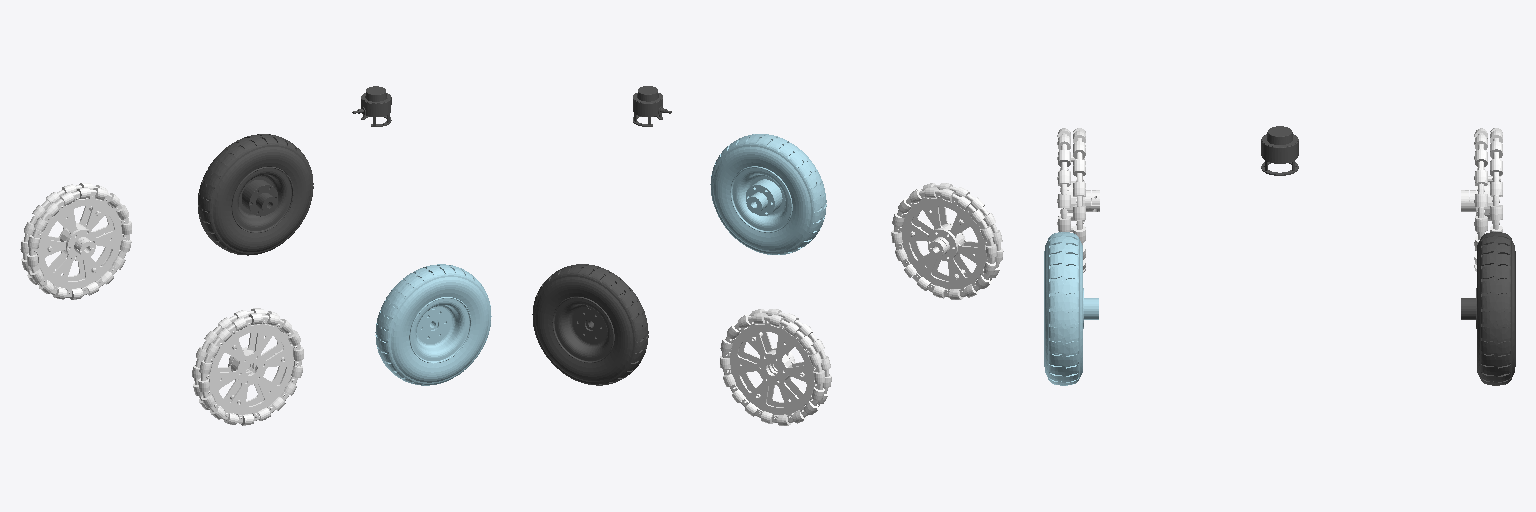
robot.urdf — four_wheel_diff_bs_robot:
<?xml version="1.0" encoding="utf-8"?>
<!-- This URDF was automatically created by SolidWorks to URDF Exporter! Originally created by [author] ([email redacted]) 
     Commit Version: 1.6.0-4-g7f85cfe  Build Version: 1.6.7995.38578
     For more information, please see http://wiki.ros.org/sw_urdf_exporter -->
<robot
  name="four_wheel_diff_bs_robot">
  <link
    name="base_link">
    <inertial>
      <origin
        xyz="0.0462629834005749 -0.00405781340954342 0.0282831399530564"
        rpy="0 0 0" />
      <mass
        value="4.71064836355498" />
      <inertia
        ixx="0.0538791577821187"
        ixy="6.45705427166123E-05"
        ixz="-1.84301924068733E-05"
        iyy="0.0466094447407305"
        iyz="-2.87984082042781E-06"
        izz="0.0970512808011448" />
    </inertial>
    <visual>
      <origin
        xyz="0 0 0"
        rpy="0 0 0" />
      <geometry>
        <mesh
          filename="package://wheeltec_robot_urdf/meshes/four_wheel_diff_bs_robot_meshes/base_link.STL" />
      </geometry>
      <material
        name="">
        <color
          rgba="0.741176470588235 0.901960784313726 0.956862745098039 1" />
      </material>
    </visual>
    <collision>
      <origin
        xyz="0 0 0"
        rpy="0 0 0" />
      <geometry>
        <mesh
          filename="package://wheeltec_robot_urdf/meshes/four_wheel_diff_bs_robot_meshes/base_link.STL" />
      </geometry>
    </collision>
  </link>
  <link
    name="lf_wheel_link">
    <inertial>
      <origin
        xyz="3.61401096549141E-09 -0.00244390627203289 -1.01287948499479E-05"
        rpy="0 0 0" />
      <mass
        value="0.566219483453613" />
      <inertia
        ixx="0.00187017809667248"
        ixy="2.73384573500602E-11"
        ixz="-1.09251537114813E-11"
        iyy="0.00344355982029273"
        iyz="-6.16603281053067E-08"
        izz="0.00187037499128627" />
    </inertial>
    <visual>
      <origin
        xyz="0 0 0"
        rpy="0 0 0" />
      <geometry>
        <mesh
          filename="package://wheeltec_robot_urdf/meshes/four_wheel_diff_bs_robot_meshes/lf_wheel_link.STL" />
      </geometry>
      <material
        name="">
        <color
          rgba="0.376470588235294 0.376470588235294 0.376470588235294 1" />
      </material>
    </visual>
    <collision>
      <origin
        xyz="0 0 0"
        rpy="0 0 0" />
      <geometry>
        <mesh
          filename="package://wheeltec_robot_urdf/meshes/four_wheel_diff_bs_robot_meshes/lf_wheel_link.STL" />
      </geometry>
    </collision>
  </link>
  <joint
    name="lf_wheel_joint"
    type="continuous">
    <origin
      xyz="0.185693160645845 0.299417641802976 -0.037499999999996"
      rpy="0 0 0" />
    <parent
      link="base_link" />
    <child
      link="lf_wheel_link" />
    <axis
      xyz="0 1 0" />
  </joint>
  <link
    name="lb_wheel_link">
    <inertial>
      <origin
        xyz="1.27184909236022E-05 -0.00140944981536266 -1.83669455708357E-06"
        rpy="0 0 0" />
      <mass
        value="0.371771326831592" />
      <inertia
        ixx="0.00118734293761529"
        ixy="5.34104888593155E-08"
        ixz="1.22699421706837E-08"
        iyy="0.00229211164387072"
        iyz="3.93539110083801E-09"
        izz="0.00118730966810385" />
    </inertial>
    <visual>
      <origin
        xyz="0 0 0"
        rpy="0 0 0" />
      <geometry>
        <mesh
          filename="package://wheeltec_robot_urdf/meshes/four_wheel_diff_bs_robot_meshes/lb_wheel_link.STL" />
      </geometry>
      <material
        name="">
        <color
          rgba="1 1 1 1" />
      </material>
    </visual>
    <collision>
      <origin
        xyz="0 0 0"
        rpy="0 0 0" />
      <geometry>
        <mesh
          filename="package://wheeltec_robot_urdf/meshes/four_wheel_diff_bs_robot_meshes/lb_wheel_link.STL" />
      </geometry>
    </collision>
  </link>
  <joint
    name="lb_wheel_joint"
    type="continuous">
    <origin
      xyz="-0.168006839354155 0.289417641802975 -0.037499999999996"
      rpy="0 0 0" />
    <parent
      link="base_link" />
    <child
      link="lb_wheel_link" />
    <axis
      xyz="0 -1 0" />
  </joint>
  <link
    name="rb_wheel_link">
    <inertial>
      <origin
        xyz="-1.27184909264333E-05 0.00140944981536306 -1.83669456016444E-06"
        rpy="0 0 0" />
      <mass
        value="0.371771326831597" />
      <inertia
        ixx="0.00118734293761531"
        ixy="5.34104888625947E-08"
        ixz="-1.22699421961148E-08"
        iyy="0.00229211164387076"
        iyz="-3.93539108664747E-09"
        izz="0.00118730966810387" />
    </inertial>
    <visual>
      <origin
        xyz="0 0 0"
        rpy="0 0 0" />
      <geometry>
        <mesh
          filename="package://wheeltec_robot_urdf/meshes/four_wheel_diff_bs_robot_meshes/rb_wheel_link.STL" />
      </geometry>
      <material
        name="">
        <color
          rgba="1 1 1 1" />
      </material>
    </visual>
    <collision>
      <origin
        xyz="0 0 0"
        rpy="0 0 0" />
      <geometry>
        <mesh
          filename="package://wheeltec_robot_urdf/meshes/four_wheel_diff_bs_robot_meshes/rb_wheel_link.STL" />
      </geometry>
    </collision>
  </link>
  <joint
    name="rb_wheel_joint"
    type="continuous">
    <origin
      xyz="-0.168006839354153 -0.288382358197025 -0.037499999999994"
      rpy="0 0 0" />
    <parent
      link="base_link" />
    <child
      link="rb_wheel_link" />
    <axis
      xyz="0 1 0" />
  </joint>
  <link
    name="rf_wheel_link">
    <inertial>
      <origin
        xyz="-3.6140115483585E-09 0.0024439062720325 -1.01287948487405E-05"
        rpy="0 0 0" />
      <mass
        value="0.566219483453626" />
      <inertia
        ixx="0.0018701780966725"
        ixy="2.73384789114296E-11"
        ixz="1.09251492780988E-11"
        iyy="0.00344355982029283"
        iyz="6.16603280955541E-08"
        izz="0.00187037499128633" />
    </inertial>
    <visual>
      <origin
        xyz="0 0 0"
        rpy="0 0 0" />
      <geometry>
        <mesh
          filename="package://wheeltec_robot_urdf/meshes/four_wheel_diff_bs_robot_meshes/rf_wheel_link.STL" />
      </geometry>
      <material
        name="">
        <color
          rgba="0.741176470588235 0.901960784313726 0.956862745098039 1" />
      </material>
    </visual>
    <collision>
      <origin
        xyz="0 0 0"
        rpy="0 0 0" />
      <geometry>
        <mesh
          filename="package://wheeltec_robot_urdf/meshes/four_wheel_diff_bs_robot_meshes/rf_wheel_link.STL" />
      </geometry>
    </collision>
  </link>
  <joint
    name="rf_wheel_joint"
    type="continuous">
    <origin
      xyz="0.185693160645847 -0.299382358197024 -0.037499999999994"
      rpy="0 0 0" />
    <parent
      link="base_link" />
    <child
      link="rf_wheel_link" />
    <axis
      xyz="0 -1 0" />
  </joint>
  <link
    name="camera_link">
    <inertial>
      <origin
        xyz="-1.49472340595092E-07 1.5737615574607E-07 -3.19615127974959E-07"
        rpy="0 0 0" />
      <mass
        value="0.055984252920277" />
      <inertia
        ixx="0.000130802200744622"
        ixy="-9.96617453034004E-07"
        ixz="1.62299342697034E-06"
        iyy="1.9123626272978E-05"
        iyz="-4.42334063842044E-08"
        izz="0.000131387473459422" />
    </inertial>
    <visual>
      <origin
        xyz="0 0 0"
        rpy="0 0 0" />
      <geometry>
        <mesh
          filename="package://wheeltec_robot_urdf/meshes/four_wheel_diff_bs_robot_meshes/camera_link.STL" />
      </geometry>
      <material
        name="">
        <color
          rgba="1 1 1 1" />
      </material>
    </visual>
    <collision>
      <origin
        xyz="0 0 0"
        rpy="0 0 0" />
      <geometry>
        <mesh
          filename="package://wheeltec_robot_urdf/meshes/four_wheel_diff_bs_robot_meshes/camera_link.STL" />
      </geometry>
    </collision>
  </link>
  <joint
    name="camera_joint"
    type="fixed">
    <origin
      xyz="0.298787160645846 0.000240641802977143 0.172196000000005"
      rpy="0 0 0" />
    <parent
      link="base_link" />
    <child
      link="camera_link" />
    <axis
      xyz="0 0 0" />
  </joint>
  <link
    name="laser_link">
    <inertial>
      <origin
        xyz="-0.00207956288634144 -9.87028646592947E-07 -0.0264472435671745"
        rpy="0 0 0" />
      <mass
        value="0.00426368606026277" />
      <inertia
        ixx="1.45373992961577E-06"
        ixy="2.48436940264113E-14"
        ixz="-8.86181044864516E-08"
        iyy="1.17647720289551E-06"
        iyz="-2.28919926237116E-15"
        izz="2.03836666874871E-06" />
    </inertial>
    <visual>
      <origin
        xyz="0 0 0"
        rpy="0 0 0" />
      <geometry>
        <mesh
          filename="package://wheeltec_robot_urdf/meshes/four_wheel_diff_bs_robot_meshes/laser.STL" />
      </geometry>
      <material
        name="">
        <color
          rgba="0.376470588235294 0.376470588235294 0.376470588235294 1" />
      </material>
    </visual>
    <collision>
      <origin
        xyz="0 0 0"
        rpy="0 0 0" />
      <geometry>
        <mesh
          filename="package://wheeltec_robot_urdf/meshes/four_wheel_diff_bs_robot_meshes/laser.STL" />
      </geometry>
    </collision>
  </link>
  <joint
    name="laser_joint"
    type="fixed">
    <origin
      xyz="0.246992160645846 1.66418029772242E-05 0.244656000000005"
      rpy="0 0 -3.14159265358979" />
    <parent
      link="base_link" />
    <child
      link="laser_link" />
    <axis
      xyz="0 0 0" />
  </joint>
  <link
    name="controller_link">
    <inertial>
      <origin
        xyz="-0.0497103400790872 0.0175133935293348 0.00856001460559358"
        rpy="0 0 0" />
      <mass
        value="0.00107921953110442" />
      <inertia
        ixx="1.16330109775188E-08"
        ixy="-3.9409266886985E-09"
        ixz="3.69212784612827E-10"
        iyy="2.26830020206351E-07"
        iyz="5.23015130069644E-10"
        izz="2.25657042461938E-07" />
    </inertial>
    <visual>
      <origin
        xyz="0 0 0"
        rpy="0 0 0" />
      <geometry>
        <mesh
          filename="package://wheeltec_robot_urdf/meshes/four_wheel_diff_bs_robot_meshes/controller_link.STL" />
      </geometry>
      <material
        name="">
        <color
          rgba="0.741176470588235 0.901960784313726 0.956862745098039 1" />
      </material>
    </visual>
    <collision>
      <origin
        xyz="0 0 0"
        rpy="0 0 0" />
      <geometry>
        <mesh
          filename="package://wheeltec_robot_urdf/meshes/four_wheel_diff_bs_robot_meshes/controller_link.STL" />
      </geometry>
    </collision>
  </link>
  <joint
    name="controller_joint"
    type="fixed">
    <origin
      xyz="0.101379911991688 0.0620176418028517 0.00150000000000056"
      rpy="0 0 0" />
    <parent
      link="base_link" />
    <child
      link="controller_link" />
    <axis
      xyz="0 0 0" />
  </joint>
</robot>

--- What the picture shows (computed from the rendered views, not written in the file) ---
Views: 3 orthographic renders of the robot side by side, from view 1: azimuth 30°, elevation 25°; view 2: azimuth 150°, elevation 25°; view 3: azimuth 270°, elevation 25°.
Model four_wheel_diff_bs_robot with 8 links and 7 joints (4 continuous, 3 fixed), rooted at base_link, posed all joints at 0.
Links seen in each view (by area): view 1: lf_wheel_link, rf_wheel_link, rb_wheel_link, lb_wheel_link, laser_link; view 2: rf_wheel_link, lf_wheel_link, lb_wheel_link, rb_wheel_link, laser_link; view 3: lf_wheel_link, rf_wheel_link, rb_wheel_link, lb_wheel_link, laser_link.
Link boxes in pixels (bbox=[...]): lf_wheel_link: bbox=[198, 134, 313, 255]; rf_wheel_link: bbox=[375, 264, 491, 385]; rb_wheel_link: bbox=[192, 308, 303, 425]; lb_wheel_link: bbox=[20, 183, 131, 299]; laser_link: bbox=[352, 86, 391, 126]; rf_wheel_link: bbox=[710, 134, 826, 254]; lf_wheel_link: bbox=[532, 264, 648, 385]; lb_wheel_link: bbox=[720, 309, 831, 425]; rb_wheel_link: bbox=[891, 183, 1003, 299]; laser_link: bbox=[633, 86, 671, 126]; lf_wheel_link: bbox=[1461, 232, 1515, 385]; rf_wheel_link: bbox=[1044, 232, 1098, 385]; rb_wheel_link: bbox=[1057, 128, 1099, 272]; lb_wheel_link: bbox=[1461, 128, 1502, 271]; laser_link: bbox=[1261, 126, 1298, 175].
Bounding box of the posed robot: 0.5616 × 0.6528 × 0.4065 m (x, y, z).
5 mesh visuals loaded from 8 distinct referenced files (5 binary STL); not drawn: 3 (reference not matched to a file when rendering).